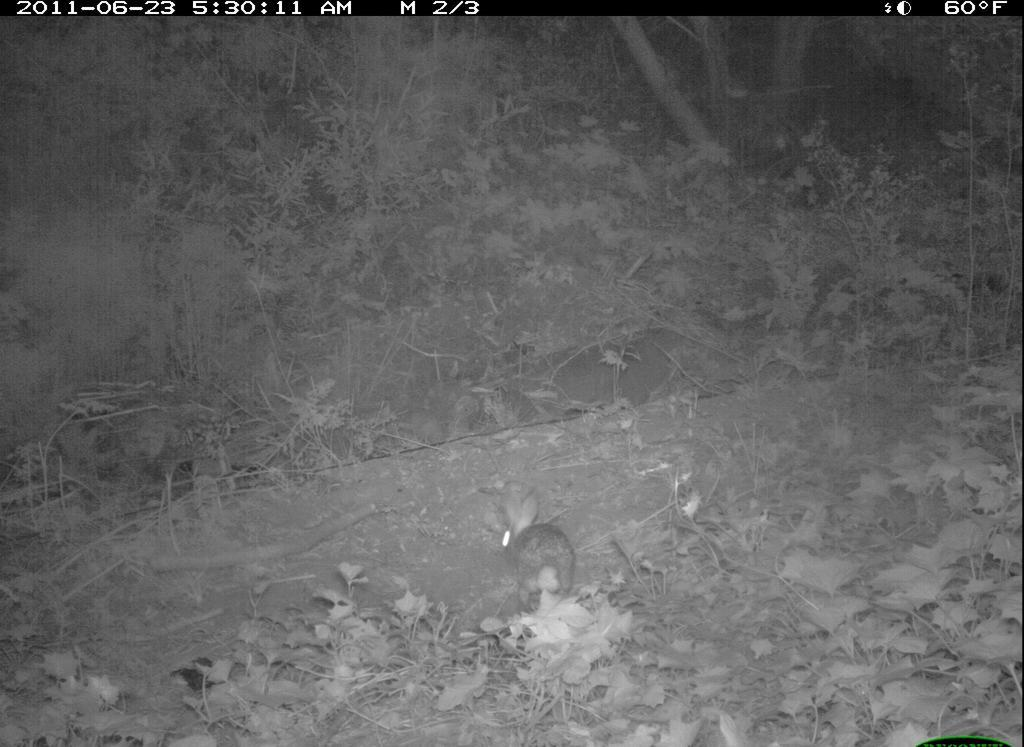rabbit: (483, 474, 602, 619)
